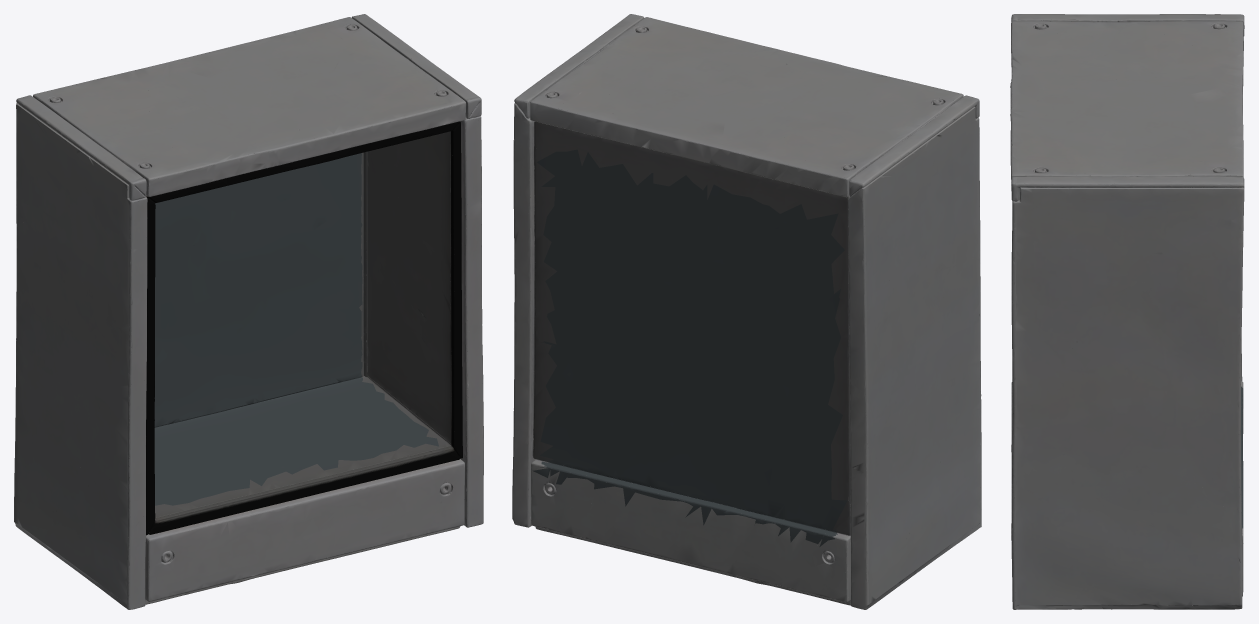
Rendered from C01_cabinet.glb.
3 renders of one model, left to right at view 1: azimuth 30°, elevation 25°; view 2: azimuth 150°, elevation 25°; view 3: azimuth 270°, elevation 25°, orthographic.
Parts seen in each view (by area): view 1: C01_Hyper3D_original_mesh; view 2: C01_Hyper3D_original_mesh; view 3: C01_Hyper3D_original_mesh.
Boxes of the visible parts, <box> form: C01_Hyper3D_original_mesh: <box>14,14,483,609</box>; C01_Hyper3D_original_mesh: <box>512,14,981,609</box>; C01_Hyper3D_original_mesh: <box>1010,14,1244,609</box>.
Size of the model in its own units: 0.9486 by 1.1 by 0.5417.
2 materials, 1 textured.
